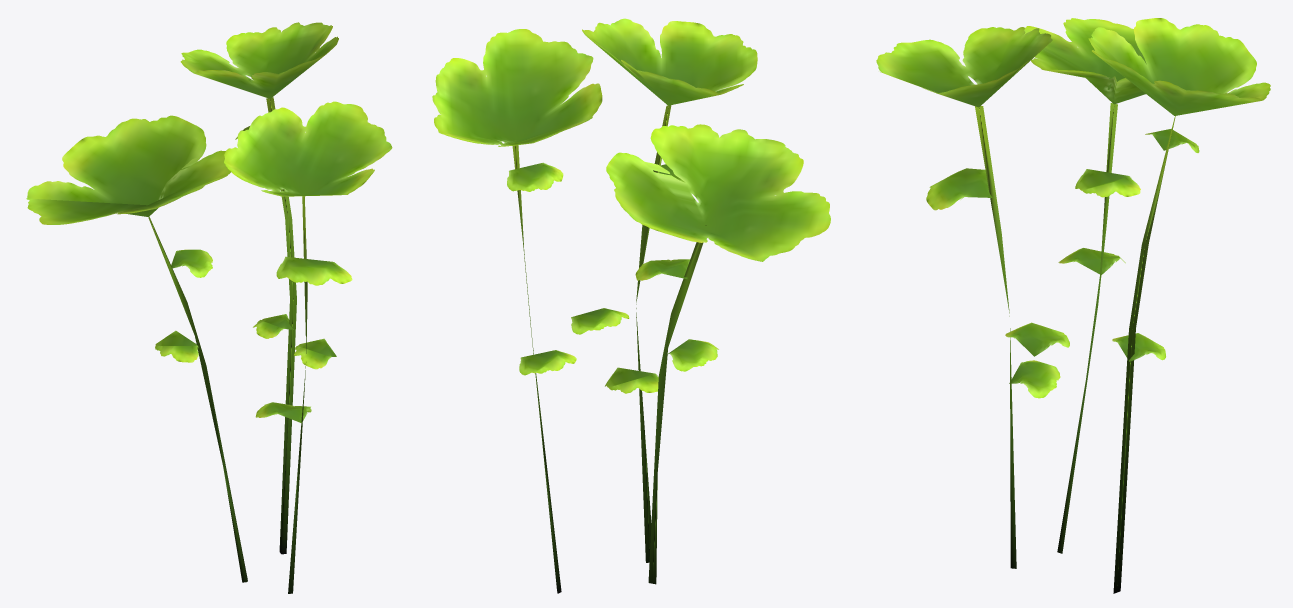
File: Clover_1.glb
The picture shows the model from 3 angles, left to right: view 1: azimuth 30°, elevation 25°; view 2: azimuth 150°, elevation 25°; view 3: azimuth 270°, elevation 25°; orthographic projection. The views are drawn at different scales.
Parts seen in each view (by area): view 1: Clover_1; view 2: Clover_1; view 3: Clover_1.
Boxes of the visible parts, left/top/right/bottom form: Clover_1: left=26, top=22, right=392, bottom=593; Clover_1: left=432, top=18, right=830, bottom=593; Clover_1: left=876, top=18, right=1270, bottom=593.
Size of the model in its own units: 0.7962 by 1.14 by 0.764.
Materials: 1 (1 with a texture image).
